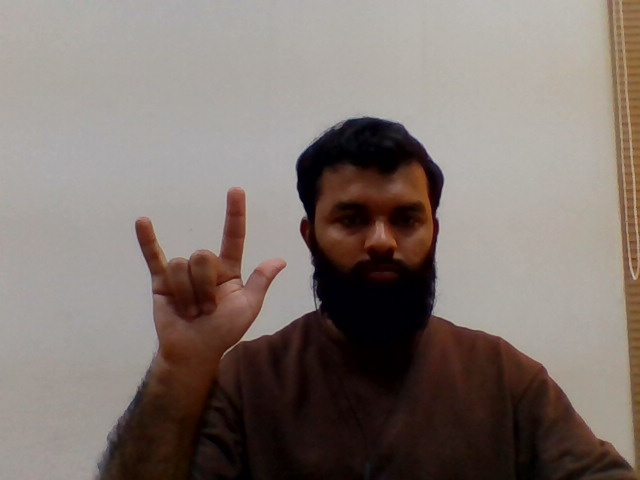I Love you: (126, 182, 291, 371)
